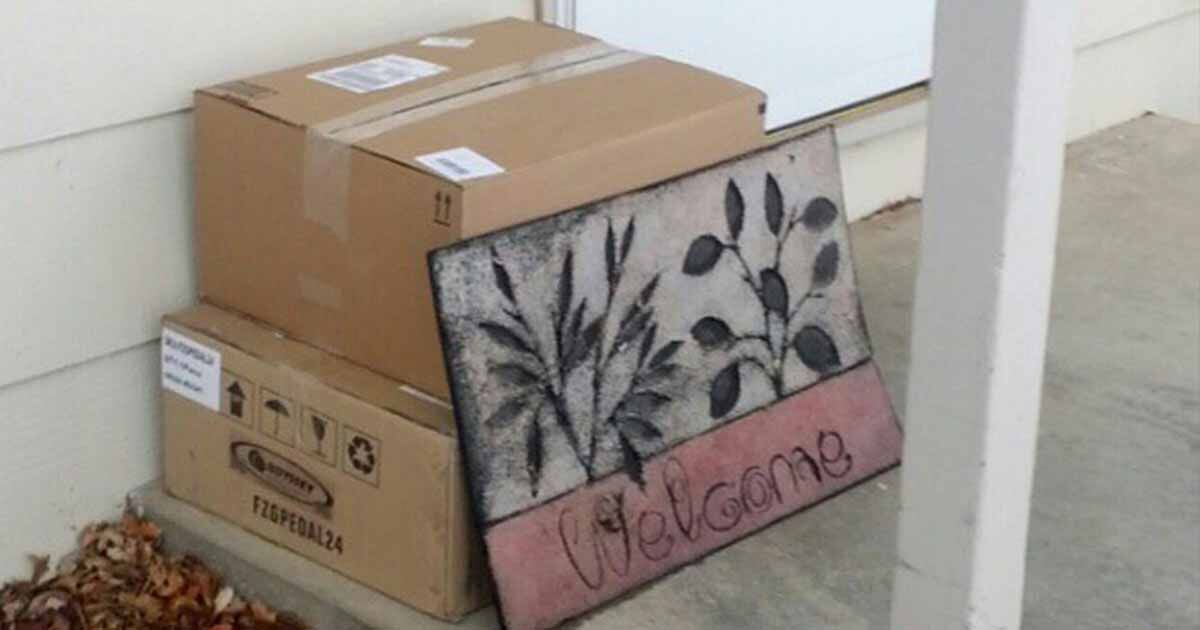package: (196, 16, 716, 378), (165, 315, 484, 596)
